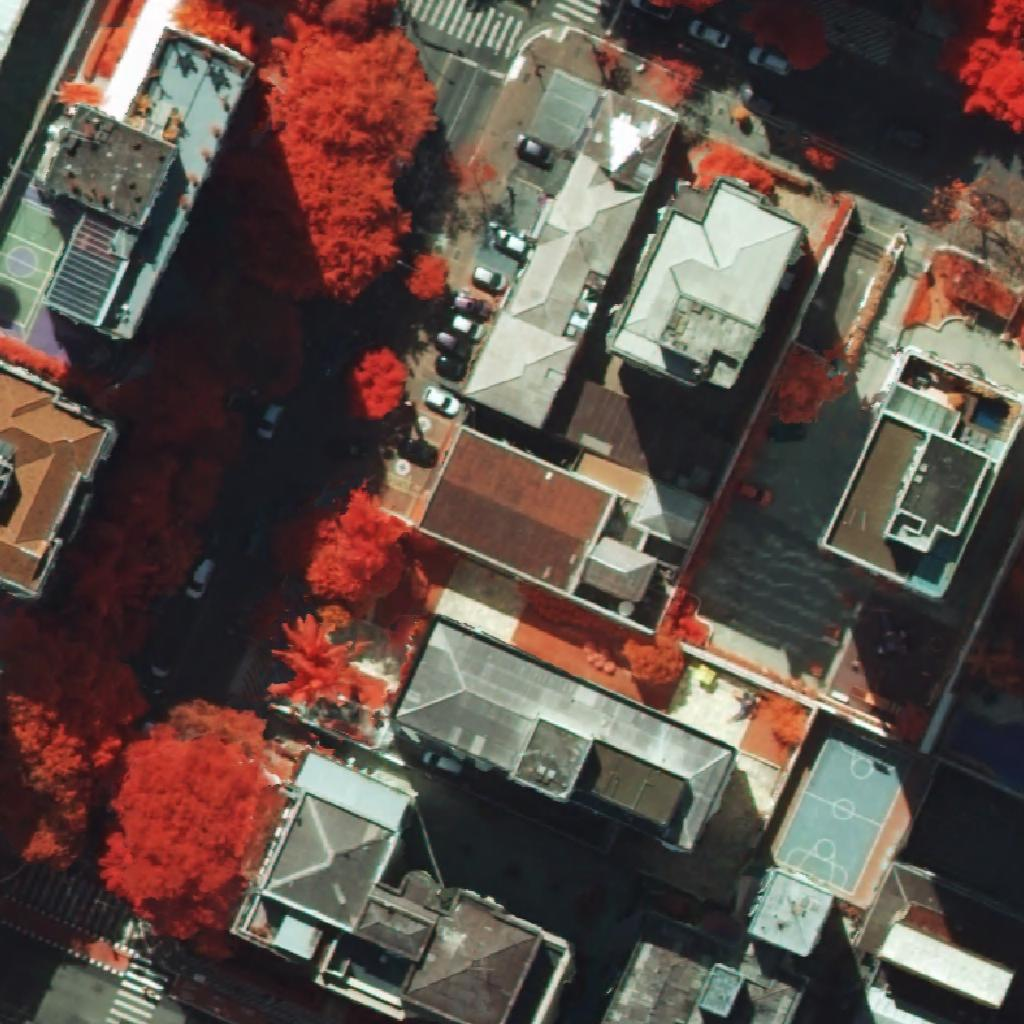pool: (953, 716, 1024, 795)
